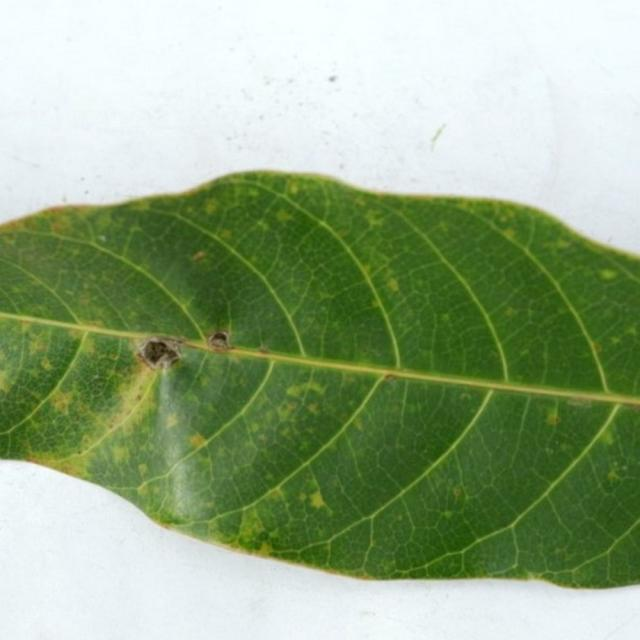Mango: (0, 173, 639, 587)
Powdery_Mildew: (285, 381, 324, 399), (156, 509, 192, 527), (188, 430, 214, 453), (50, 389, 74, 413), (39, 204, 76, 216), (363, 209, 385, 228), (111, 443, 129, 464), (28, 337, 47, 356), (49, 217, 69, 235), (308, 490, 326, 509), (268, 485, 286, 501), (601, 427, 616, 446), (189, 433, 206, 449), (59, 461, 78, 475), (203, 199, 219, 215), (165, 413, 180, 430), (251, 517, 266, 533), (0, 376, 13, 394), (281, 400, 299, 413), (19, 317, 35, 331), (275, 210, 292, 223), (386, 277, 400, 292), (568, 398, 589, 408), (256, 530, 272, 543), (502, 228, 518, 240), (599, 268, 616, 279), (39, 357, 53, 370), (607, 470, 621, 483), (258, 541, 272, 554), (256, 220, 270, 232), (81, 434, 92, 449), (26, 454, 42, 464), (307, 402, 320, 414), (370, 298, 383, 310), (547, 415, 561, 426), (218, 229, 232, 240), (107, 416, 118, 430), (138, 481, 149, 495), (159, 520, 174, 530), (289, 181, 300, 194), (192, 250, 205, 261), (624, 325, 637, 336), (554, 546, 568, 556), (526, 570, 540, 580), (452, 486, 463, 498), (138, 463, 148, 476), (258, 344, 271, 354), (592, 343, 603, 354), (362, 265, 373, 276), (249, 423, 261, 433), (441, 313, 452, 323), (610, 336, 622, 345), (383, 374, 395, 382), (358, 571, 371, 578), (265, 472, 275, 481), (519, 348, 529, 357), (442, 510, 453, 518), (298, 492, 307, 501), (269, 531, 279, 539), (328, 75, 337, 83), (125, 408, 132, 416), (98, 235, 106, 242), (634, 404, 640, 413), (136, 394, 142, 401), (78, 448, 83, 454)
